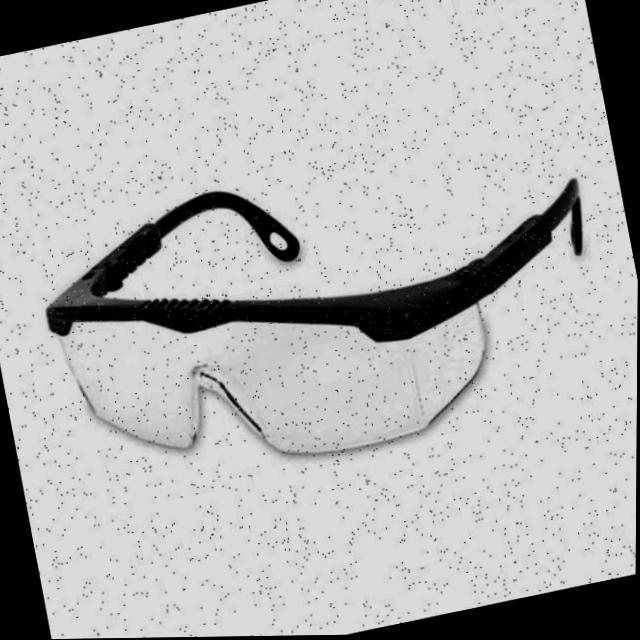goggles_on: (0, 107, 639, 526)
